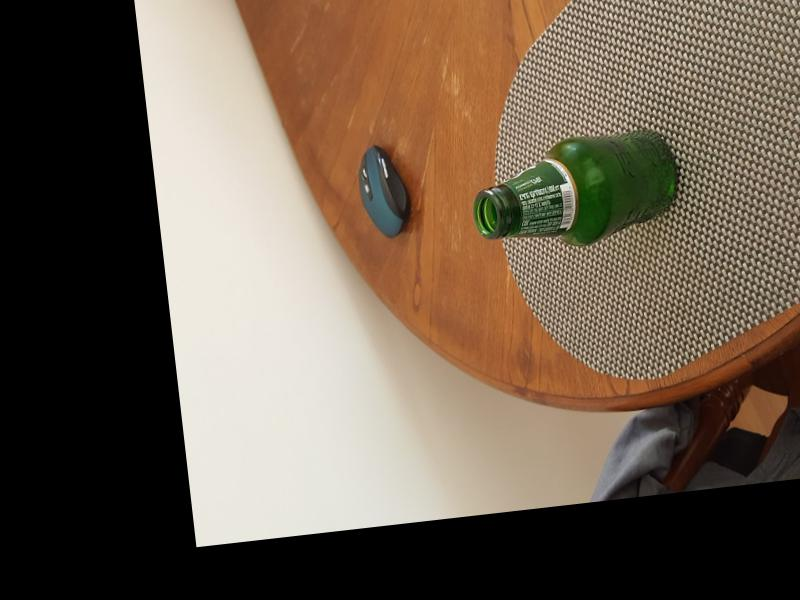Beer: (465, 121, 684, 261)
